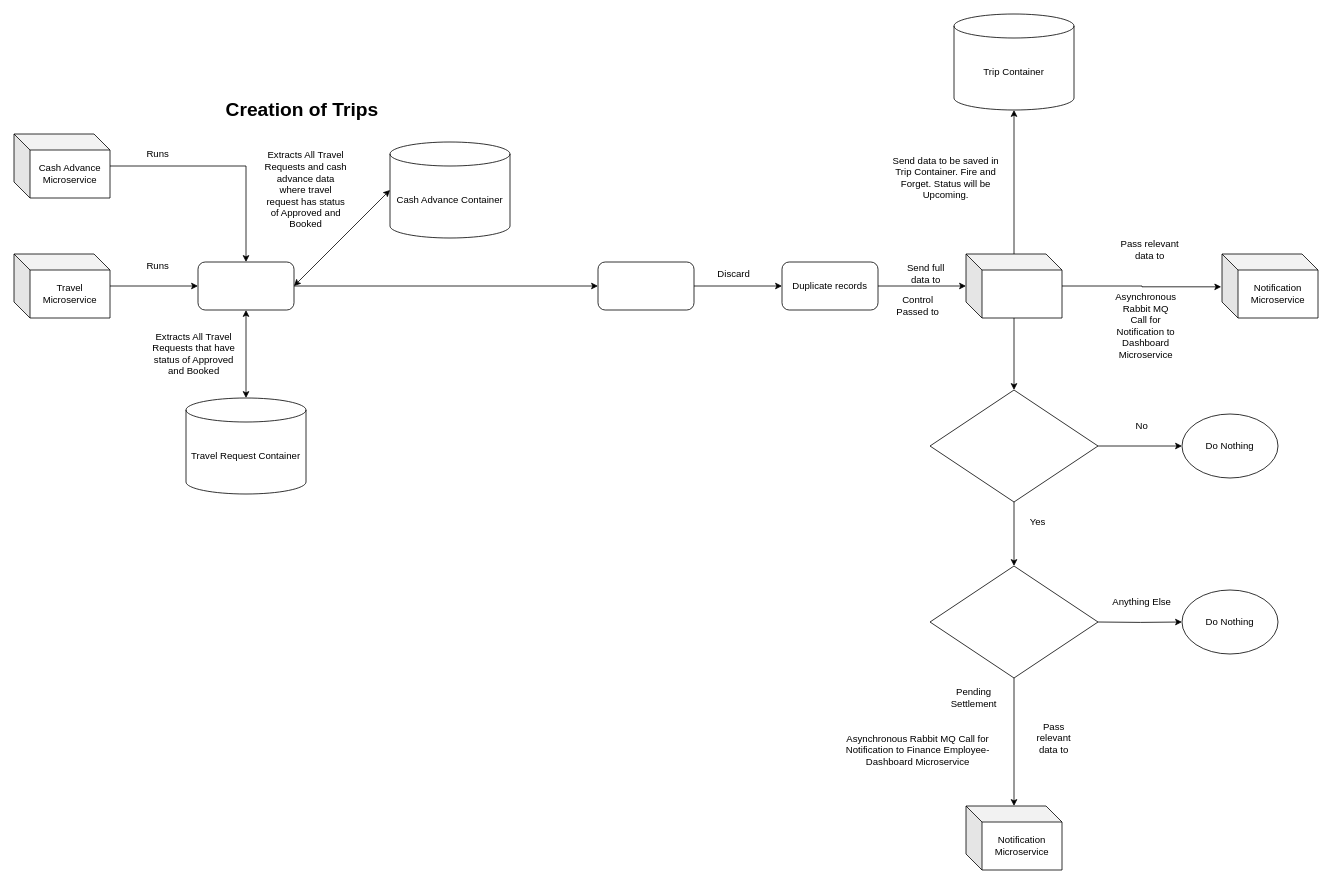
Some shapes in this 1332 by 884 pixel diagram are drawn without their labels. Here are the shapes that lost their labels. From the top down, the centre of each, then its label:
the point at 245,285: A batch job at a pre defined time. Daily
the point at 645,285: Check for Duplicates
the point at 1013,285: Trip Microservice
the point at 1013,445: Is there is a corresponding cash advance?
the point at 1013,621: Check Cash advance status
